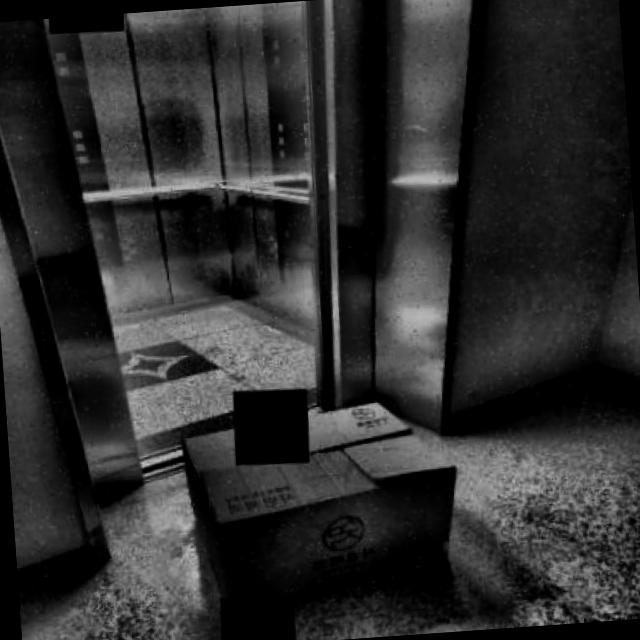box: (148, 365, 480, 640)
